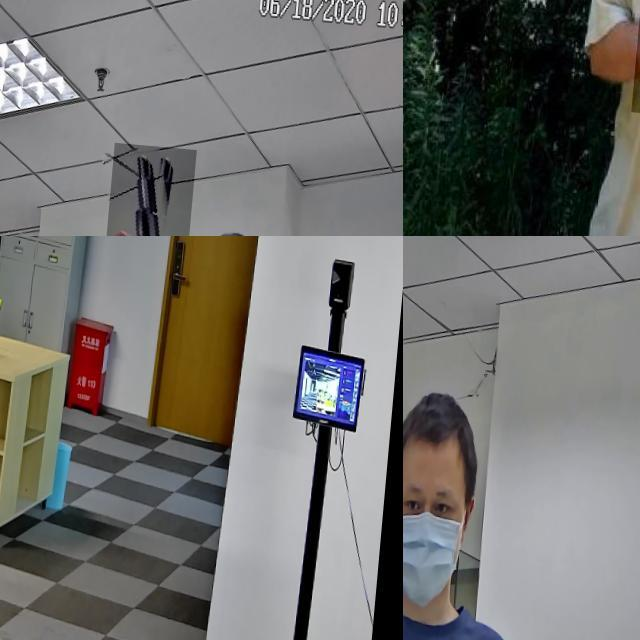gun-knife-thesis - v11 Yolov5 augmented: (103, 137, 199, 236), (403, 323, 442, 475), (0, 248, 45, 361)
